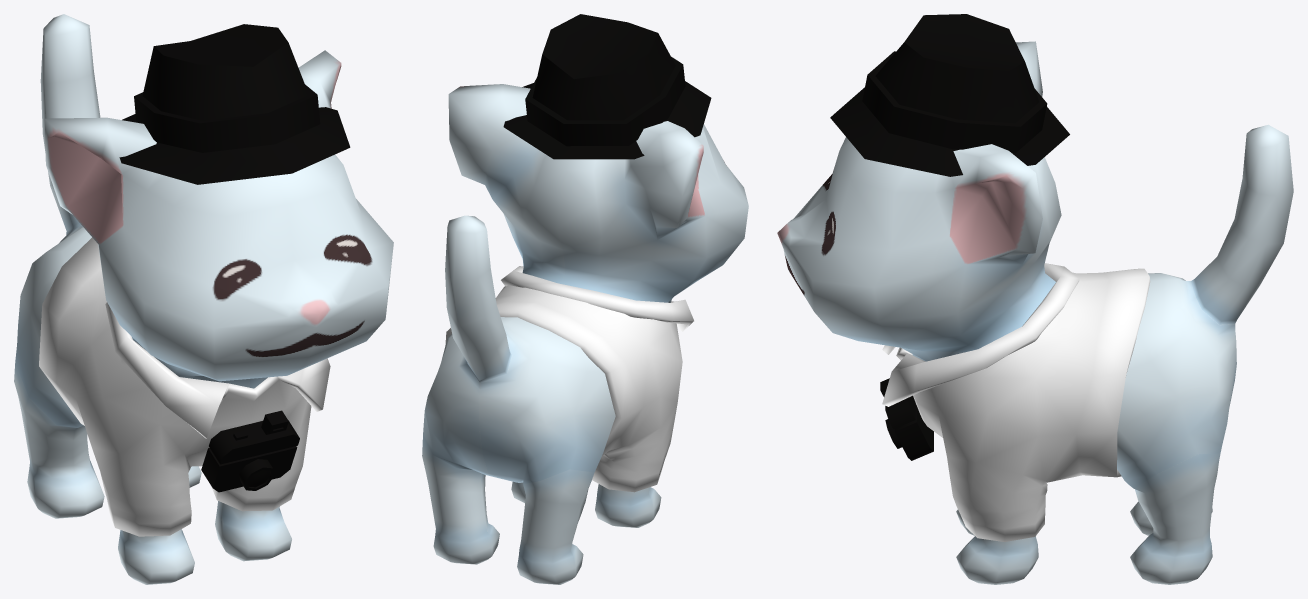
File: Journalist Cat05.fbx
The picture shows the model from 3 angles, left to right: view 1: azimuth 30°, elevation 25°; view 2: azimuth 150°, elevation 25°; view 3: azimuth 270°, elevation 25°; orthographic projection. The views are drawn at different scales.
Parts seen in each view (by area): view 1: Cat_Base004, Journalist_Cat_Shirt, Journalist_Cat_Hat, Journalist_Cat_Camera; view 2: Cat_Base004, Journalist_Cat_Hat, Journalist_Cat_Shirt; view 3: Cat_Base004, Journalist_Cat_Shirt, Journalist_Cat_Hat, Journalist_Cat_Camera.
Part boxes in pixels (x1,y1,x2,y2): Cat_Base004: (14, 14, 393, 584); Journalist_Cat_Shirt: (39, 237, 330, 536); Journalist_Cat_Hat: (119, 24, 350, 184); Journalist_Cat_Camera: (201, 410, 299, 492); Cat_Base004: (422, 84, 748, 584); Journalist_Cat_Hat: (503, 14, 711, 159); Journalist_Cat_Shirt: (445, 266, 693, 492); Cat_Base004: (777, 41, 1293, 584); Journalist_Cat_Shirt: (882, 263, 1150, 541); Journalist_Cat_Hat: (830, 14, 1069, 176); Journalist_Cat_Camera: (880, 378, 933, 460).
Bounding box in the file's own units: 1.75 × 2.83 × 3.11.
Materials: 3 (1 with a texture image).
